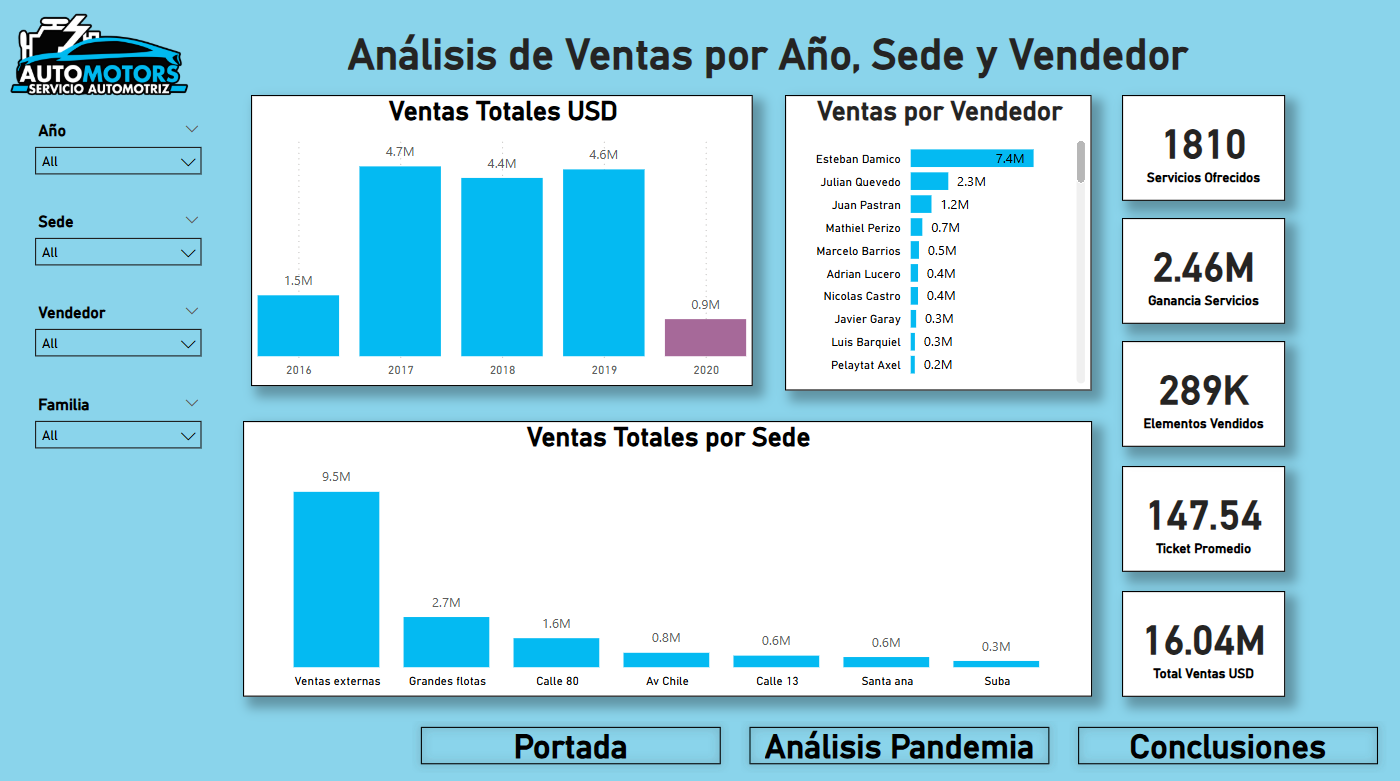

This screenshot's page, from the dashboard's own definition file:
{"tool":"powerbi","page":{"name":"Análisis General","canvas":[1280,720],"ordinal":1},"visuals":[{"type":"clusteredColumnChart","title":"Ventas Totales USD","fields":{"Category":["Ventas_Limpio_2.Fecha.Variation.Date Hierarchy.Year"],"Y":["Ventas_Limpio_2.Total_Ventas_USD"]},"box":[233,92.5,455.2,263.9],"z":0},{"type":"clusteredBarChart","title":"Ventas por Vendedor ","fields":{"Y":["Ventas_Limpio_2.Ventas_Por_Empleado"],"Category":["Empleados(limpio).Nombre y Apellido"]},"box":[717.3,92.5,278.4,267.5],"z":1000},{"type":"clusteredColumnChart","title":"Ventas Totales por Sede","fields":{"Y":["Ventas_Limpio_2.Ventas_Por_Sede"],"Category":["Ventas_Limpio_2.Sede"]},"box":[225.8,388.1,769.9,250.3],"z":2000},{"type":"slicer","fields":{"Values":["Ventas_Limpio_2.Fecha.Variation.Date Hierarchy.Year"]},"box":[27.1,111.7,171.4,61.8],"z":3000},{"type":"slicer","fields":{"Values":["Empleados(limpio).Nombre y Apellido"]},"box":[27.1,277,171.4,60.7],"z":4000},{"type":"slicer","fields":{"Values":["Ventas_Limpio_2.Sede"]},"box":[27.1,194.2,171.4,61.8],"z":5000},{"type":"image","box":[10,0,170.9,112],"z":6000},{"type":"textbox","box":[315.7,28.2,782.1,56.4],"z":7000},{"type":"pageNavigator","box":[379,657,885,50.3],"z":8000},{"type":"card","fields":{"Values":["Ventas_Limpio_2.Total_Ventas_USD"]},"box":[1022.9,542.3,147.8,96.1],"z":9000},{"type":"card","fields":{"Values":["Ventas_Limpio_2.Ticket_Promedio"]},"box":[1022.9,429,147.8,96.1],"z":10000},{"type":"card","fields":{"Values":["Ventas_Limpio_2.Cantidad_Servicios_Ofrecidos"]},"box":[1022.9,92.5,147.8,96.1],"z":11000},{"type":"slicer","fields":{"Values":["Ventas_Limpio_2.Familia"]},"box":[27.2,360,171.4,65.3],"z":12000},{"type":"card","fields":{"Values":["Ventas_Limpio_2.Cantidad_Elementos_Vendidos"]},"box":[1022.9,316,147.8,96.1],"z":14000},{"type":"card","fields":{"Values":["Ventas_Limpio_2.Total_Ganancia_Servicios"]},"box":[1022.9,204,147.8,96.1],"z":15000}]}

Visuals, with their boxes in screenshot pixels (x1, y1, x2, y2), scaled from the page's 1280x720 canvas onto the 1400x781 screenshot:
"Ventas Totales USD" clusteredColumnChart: rect(255, 100, 753, 387)
"Ventas por Vendedor " clusteredBarChart: rect(785, 100, 1089, 390)
"Ventas Totales por Sede" clusteredColumnChart: rect(247, 421, 1089, 692)
slicer - Ventas_Limpio_2.Fecha.Variation.Date Hierarchy.Year: rect(30, 121, 217, 188)
slicer - Empleados(limpio).Nombre y Apellido: rect(30, 300, 217, 366)
slicer - Ventas_Limpio_2.Sede: rect(30, 211, 217, 278)
image: rect(11, 0, 198, 121)
textbox: rect(345, 31, 1201, 92)
pageNavigator: rect(415, 713, 1382, 767)
card - Ventas_Limpio_2.Total_Ventas_USD: rect(1119, 588, 1280, 692)
card - Ventas_Limpio_2.Ticket_Promedio: rect(1119, 465, 1280, 570)
card - Ventas_Limpio_2.Cantidad_Servicios_Ofrecidos: rect(1119, 100, 1280, 205)
slicer - Ventas_Limpio_2.Familia: rect(30, 390, 217, 461)
card - Ventas_Limpio_2.Cantidad_Elementos_Vendidos: rect(1119, 343, 1280, 447)
card - Ventas_Limpio_2.Total_Ganancia_Servicios: rect(1119, 221, 1280, 326)
